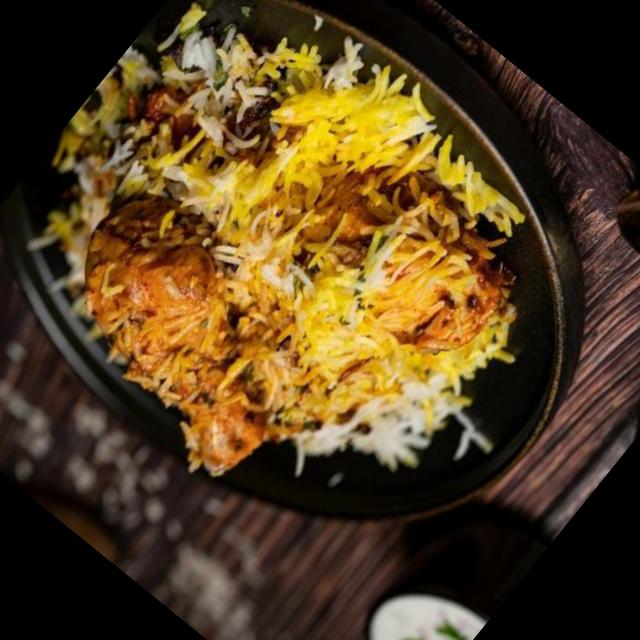Biryani: (0, 0, 635, 614)
